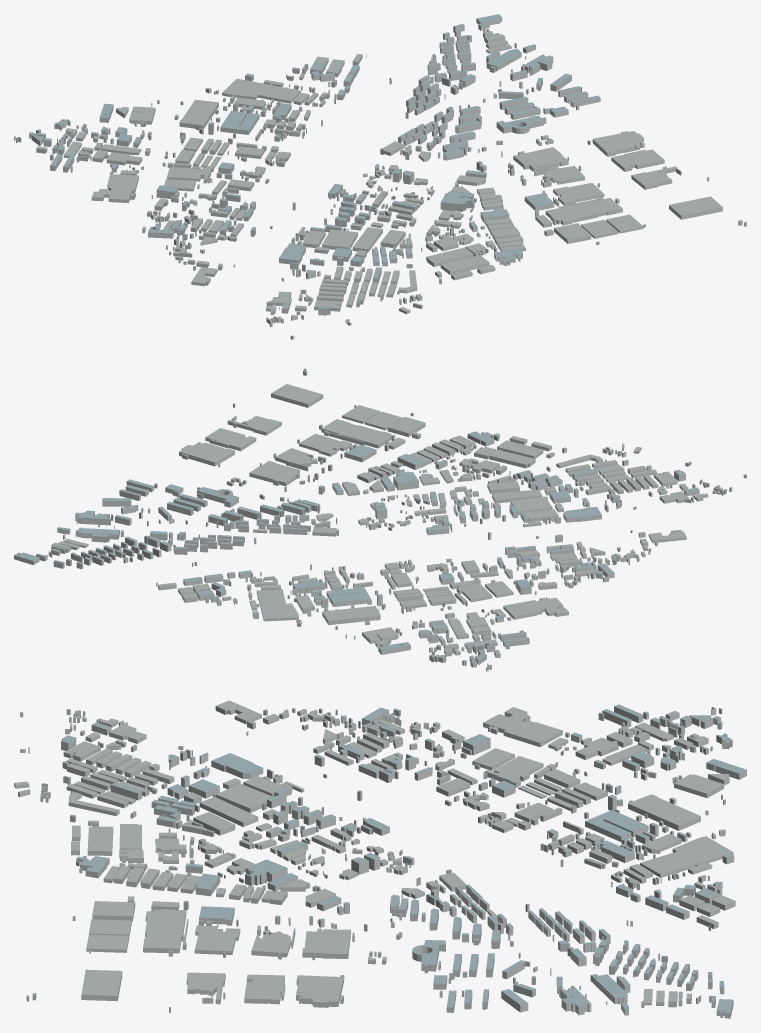
Rendered from far.glb.
3 views of the same model, one above another, from view 1: azimuth 30°, elevation 25°; view 2: azimuth 150°, elevation 25°; view 3: azimuth 270°, elevation 25° (orthographic). The views are drawn at different scales.
Size of the model in its own units: 2197 by 43.6 by 2164.
